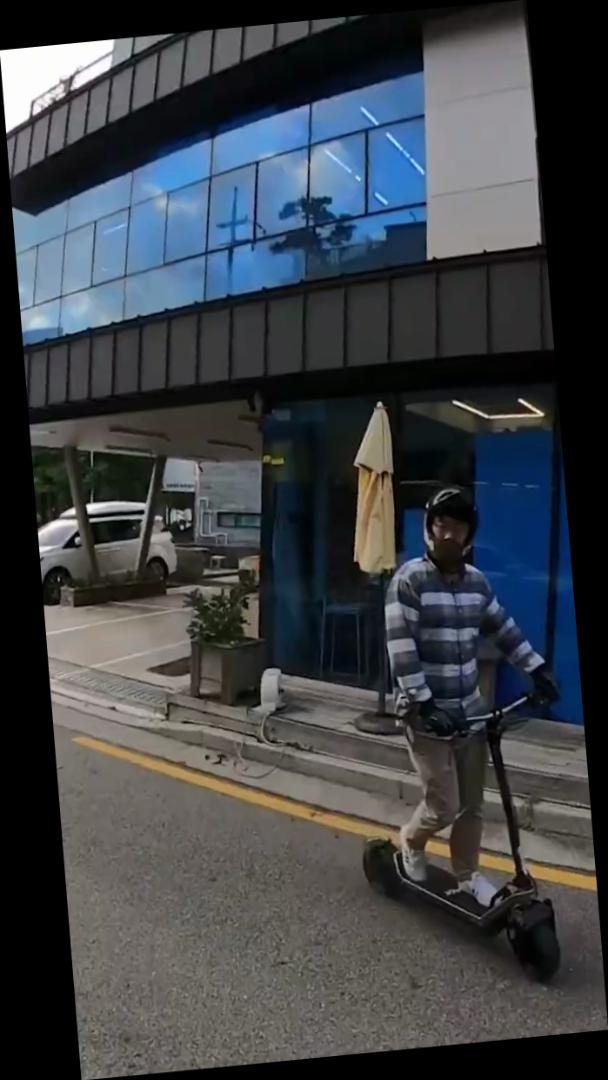helmet: (329, 473, 589, 1004)
